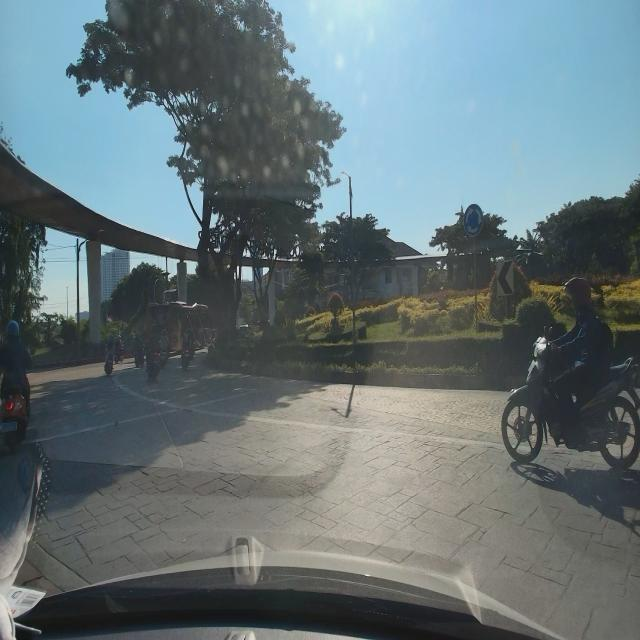bus: (145, 299, 211, 359)
